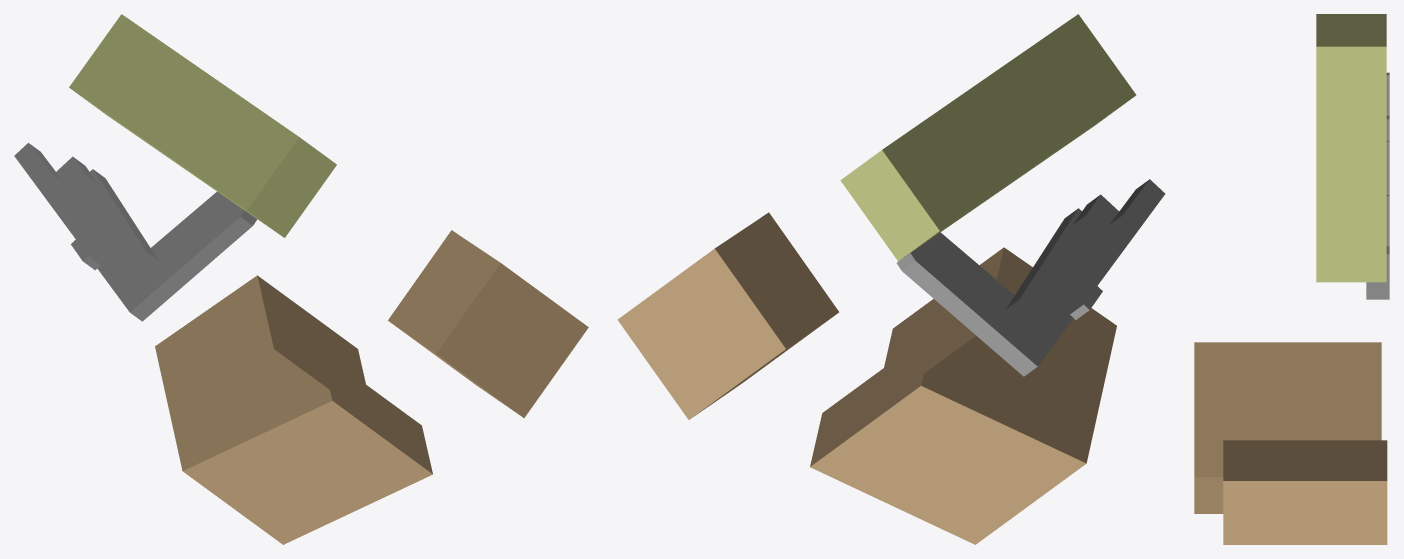
The picture shows the model from 3 angles, left to right: view 1: azimuth 30°, elevation 25°; view 2: azimuth 150°, elevation 25°; view 3: azimuth 270°, elevation 25°; orthographic projection. The views are drawn at different scales.
Visible parts, largest first — view 1: 0_1_2_0_3_1_3_3; view 2: 0_1_2_0_3_1_3_3; view 3: 0_1_2_0_3_1_3_3.
Boxes of the visible parts, x1,y1,x2,y2 form: 0_1_2_0_3_1_3_3: (14,14,588,544); 0_1_2_0_3_1_3_3: (617,14,1165,544); 0_1_2_0_3_1_3_3: (1194,14,1389,544).
Size of the model in its own units: 66.76 by 61.73 by 25.05.
